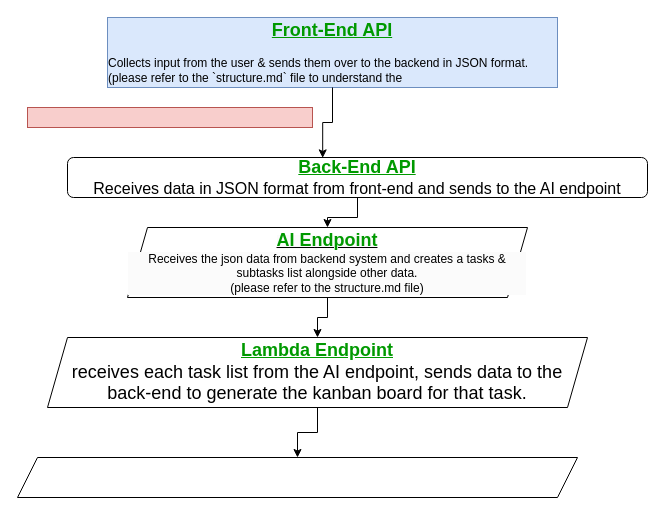
Some shapes in this 665 by 515 pixel diagram are drawn without their labels. The shapes that lost their labels are listed below. From the top down, each one's box as (x1, y1, x2, y2) in pixels, then its label:
(26, 106, 312, 128): Capture data in Json format & send to backend
(16, 456, 578, 498): Each task is created on the Kanban board through the Lambda function API.
